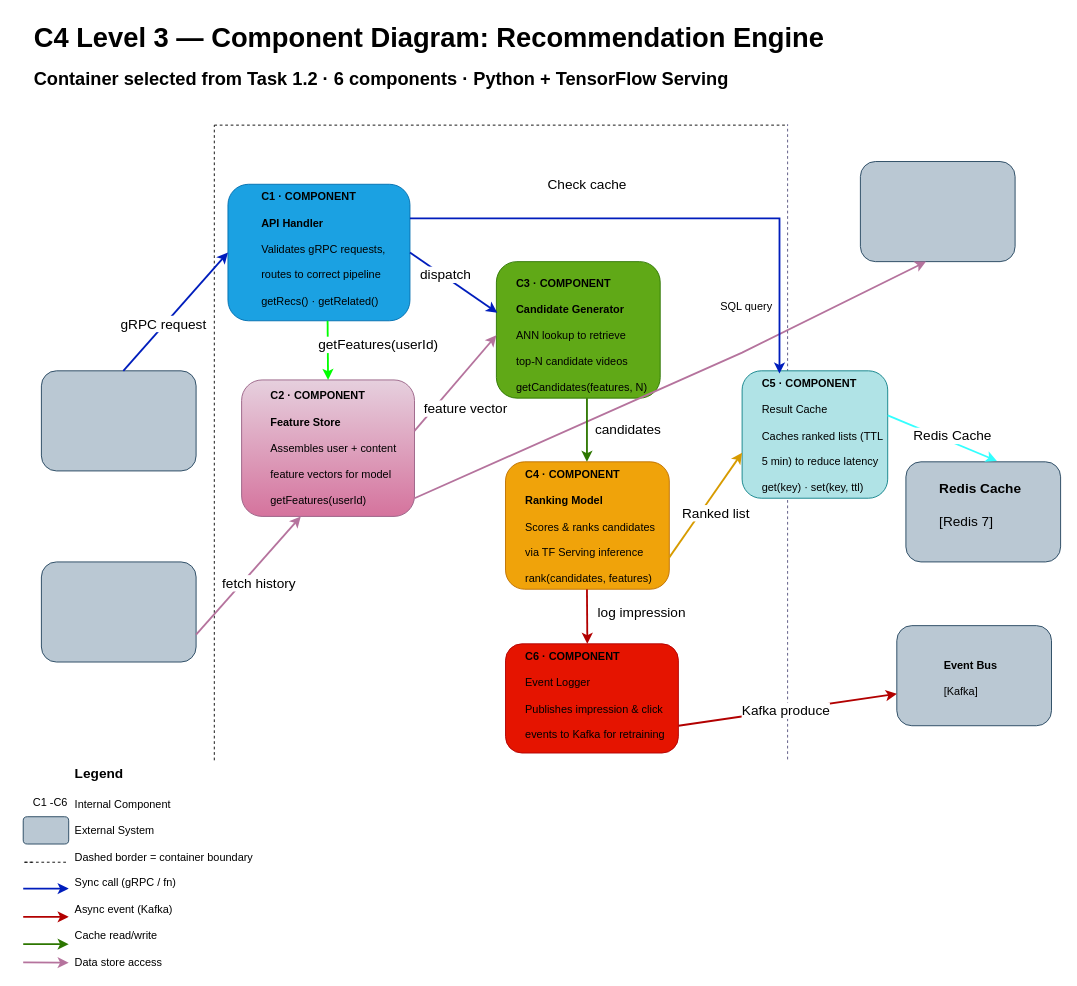
This 1077x986 diagram has some shape labels left out. The centre of each missing label's shape, as x and y in pixels:
"API Gateway [Kong]" goes at point 118,420.
"PostgreSQL [Primary DB]" goes at point 937,211.
"User Service [Node.js]" goes at point 118,611.
